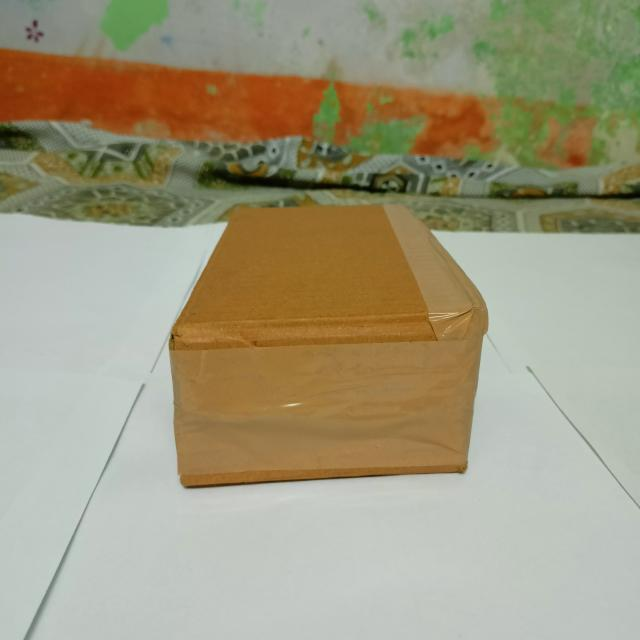box: (174, 326, 477, 480)
